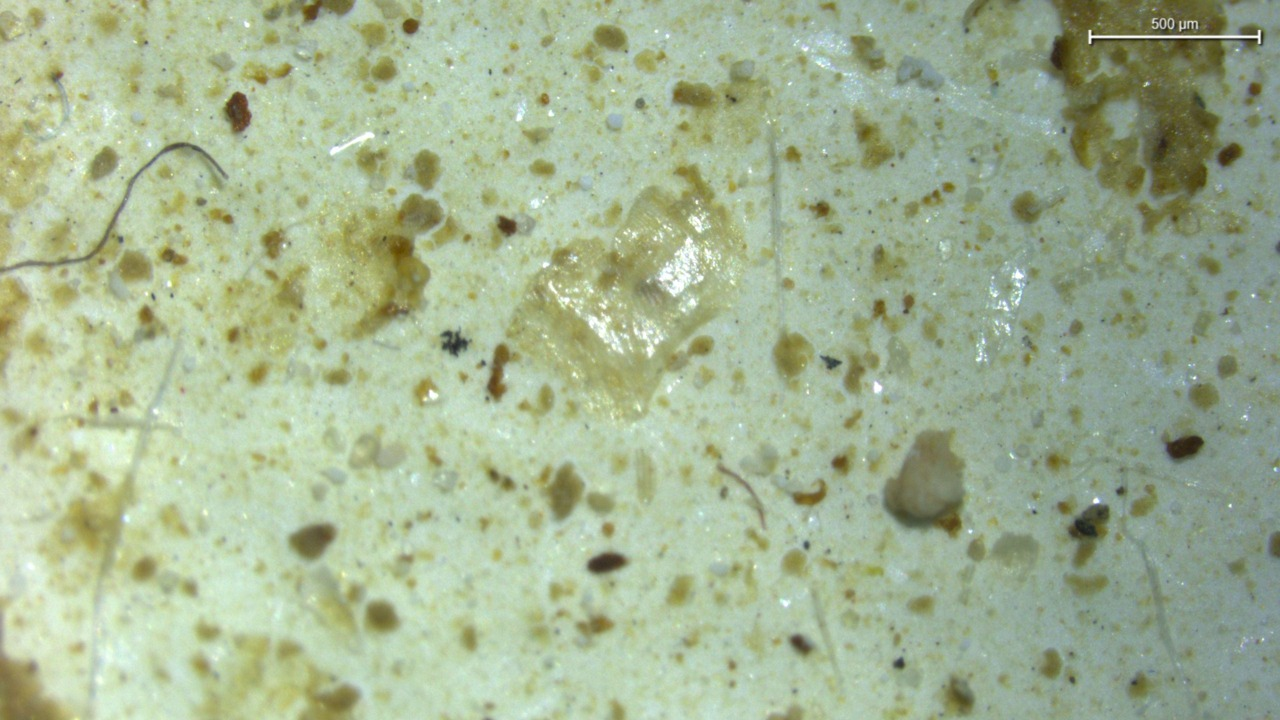microplastic_fragment: (512, 189, 745, 408), (885, 430, 964, 520), (897, 56, 944, 89), (730, 59, 754, 81), (606, 113, 622, 130)
